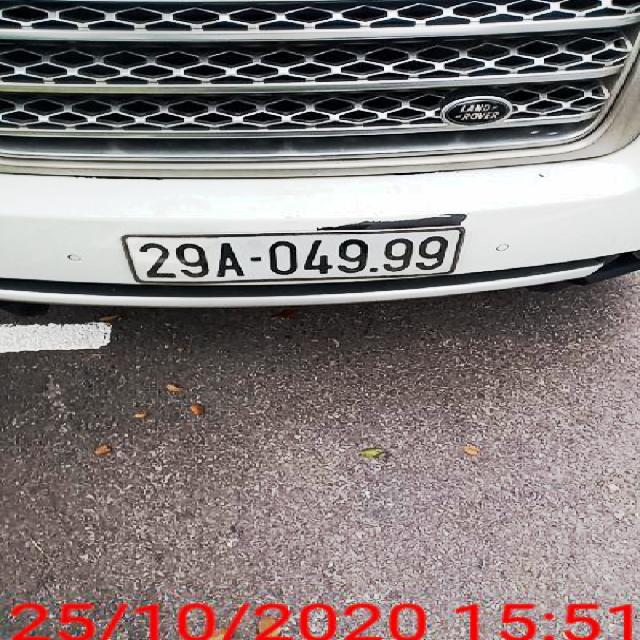license_plate: (121, 226, 469, 281)
